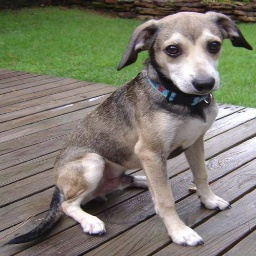dog: (7, 9, 248, 244)
